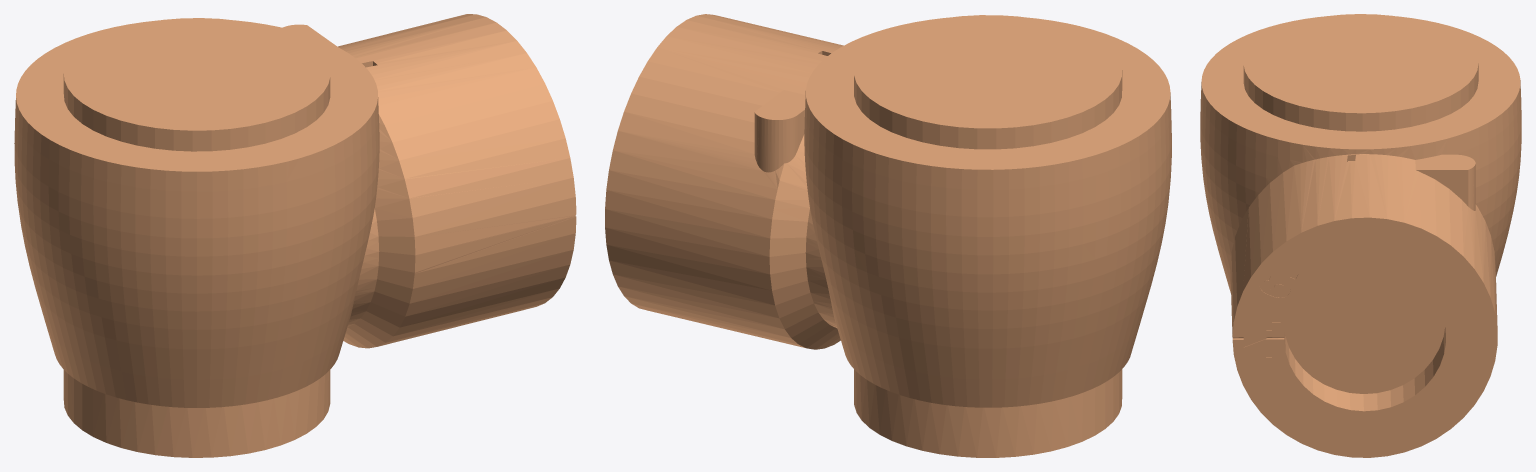
3 renders of one model, left to right at view 1: azimuth 30°, elevation 25°; view 2: azimuth 150°, elevation 25°; view 3: azimuth 270°, elevation 25°, orthographic. The views are drawn at different scales.
Parts seen in each view (by area): view 1: /Link5/Link5-mesh/0; view 2: /Link5/Link5-mesh/0; view 3: /Link5/Link5-mesh/0.
Part boxes in pixels (x1,y1,x2,y2): /Link5/Link5-mesh/0: (14, 14, 576, 457); /Link5/Link5-mesh/0: (605, 14, 1171, 457); /Link5/Link5-mesh/0: (1200, 14, 1521, 457).
Size of the model in its own units: 0.1166 by 0.0785 by 0.0794.
